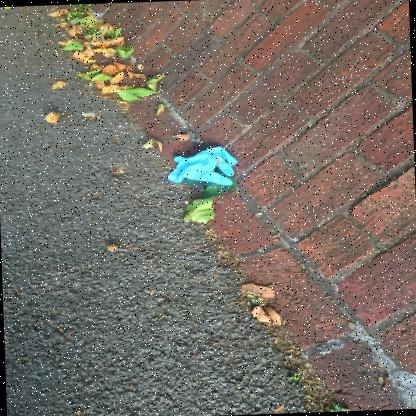Plastic glooves: (168, 146, 238, 186)
